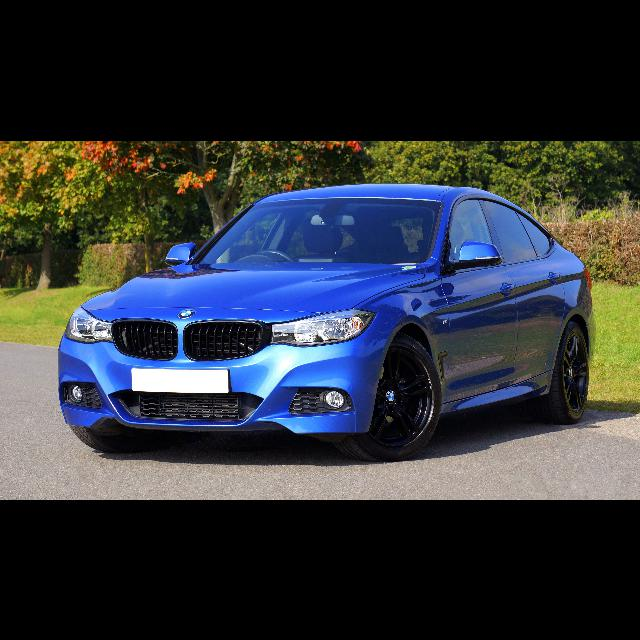cars: (45, 169, 610, 471)
